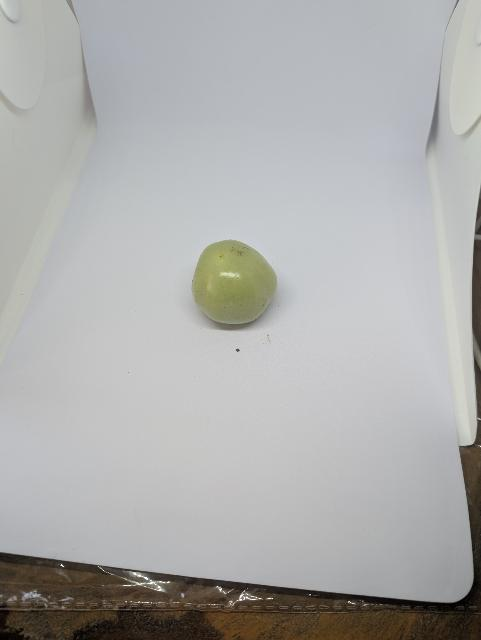green: (191, 238, 281, 333)
